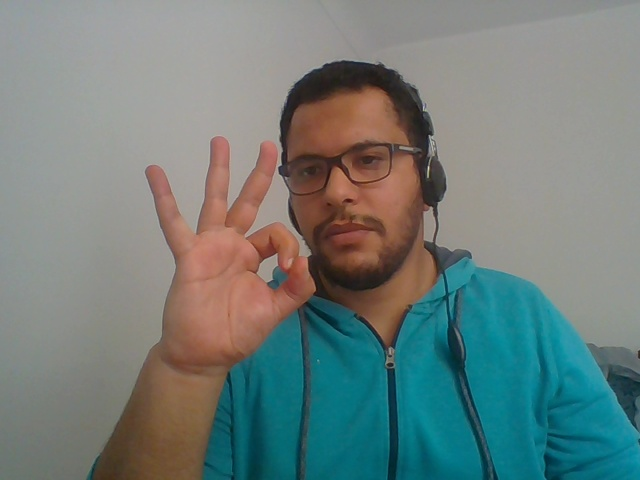okay: (115, 124, 316, 428)
